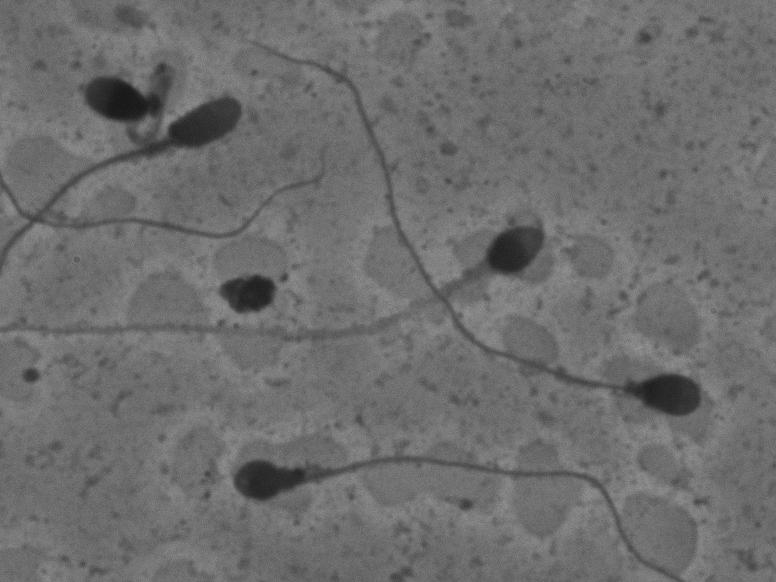Abnormal: (231, 33, 714, 425), (213, 441, 694, 576), (1, 74, 272, 252), (65, 45, 179, 141)
Normal: (6, 199, 577, 354)
